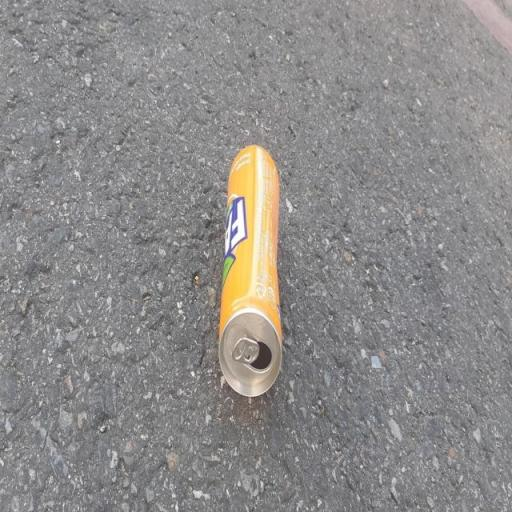metal: (204, 126, 310, 446)
